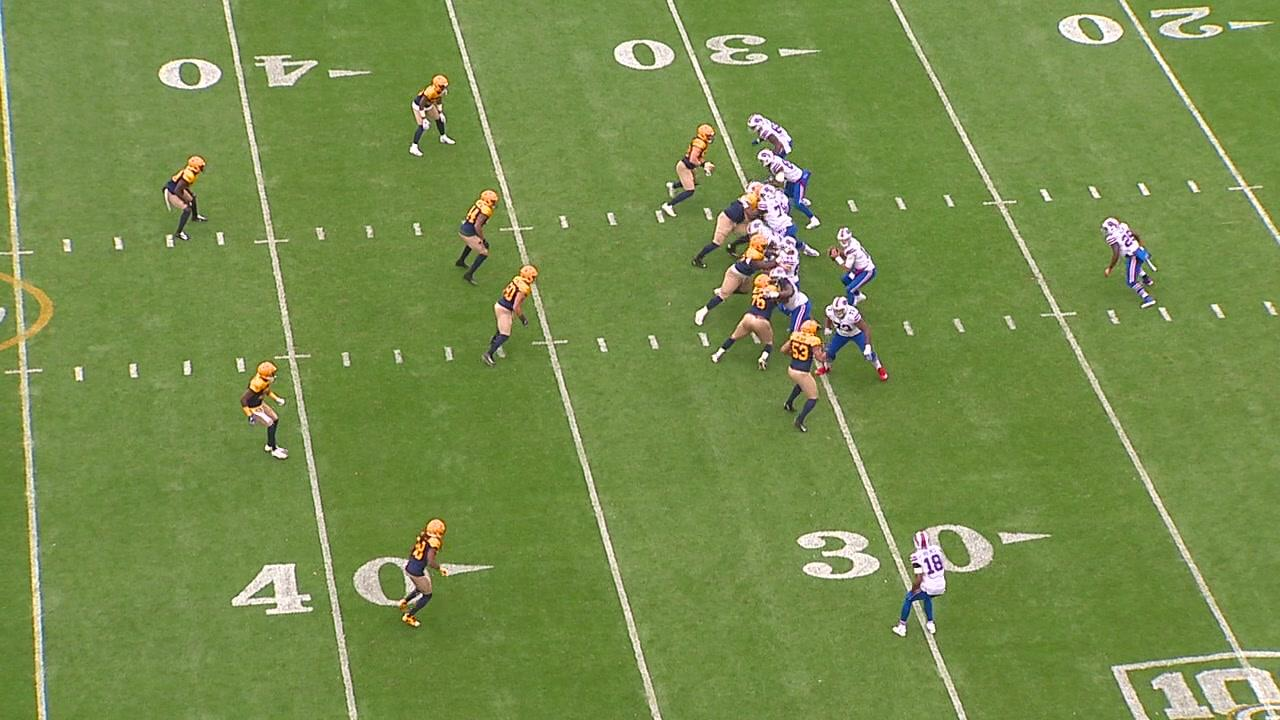player: (690, 233, 778, 330), (709, 273, 782, 371), (889, 527, 951, 640), (1094, 213, 1163, 312), (689, 181, 764, 271), (776, 315, 832, 434), (814, 295, 890, 382), (395, 516, 450, 631), (482, 265, 540, 371), (660, 123, 720, 220), (238, 359, 294, 462), (756, 146, 822, 232), (754, 180, 822, 261), (452, 188, 501, 287), (160, 154, 212, 243), (825, 224, 877, 309), (407, 71, 455, 160), (768, 264, 812, 336), (744, 108, 793, 162), (774, 236, 801, 318), (744, 180, 792, 213), (746, 217, 785, 254)
